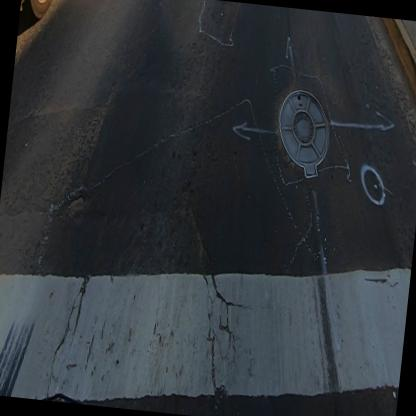manholes: (269, 78, 340, 196)
